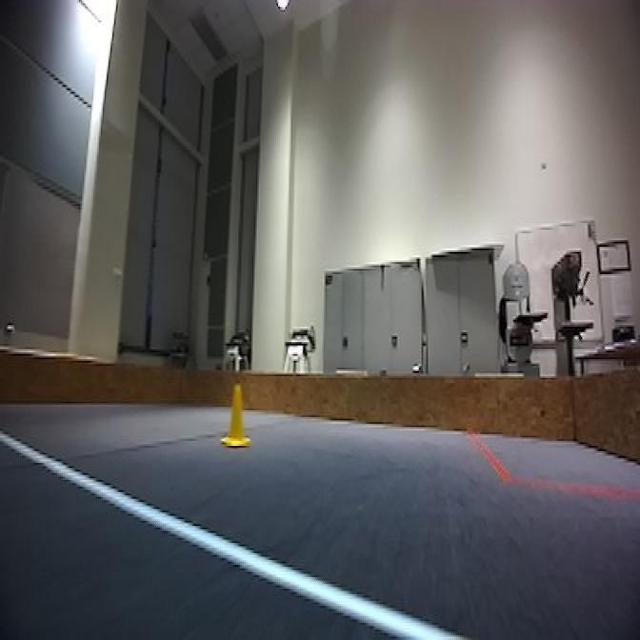frc_cone: (222, 380, 254, 454)
